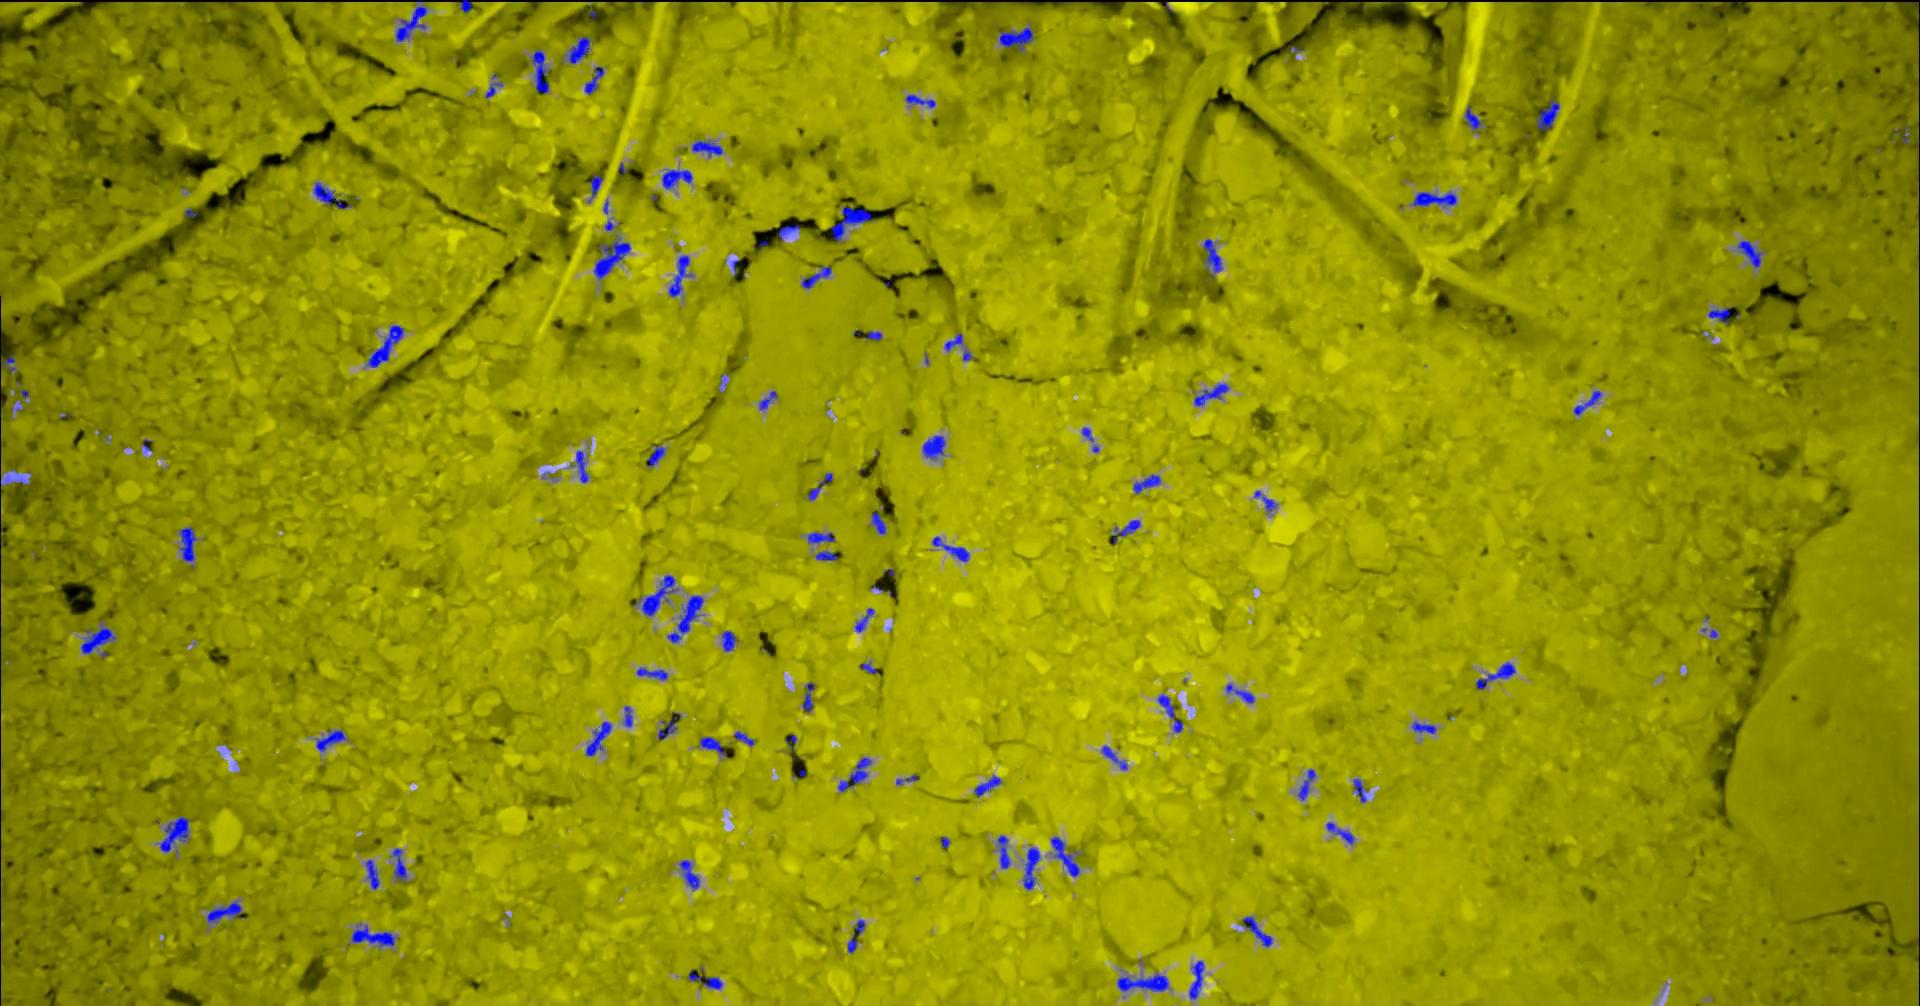ant: (668, 594, 705, 641), (637, 575, 679, 615), (368, 325, 405, 367), (596, 239, 632, 279), (833, 206, 874, 240), (397, 0, 429, 41), (1051, 836, 1081, 876), (839, 757, 872, 791), (1477, 662, 1517, 688), (161, 815, 190, 852), (83, 624, 117, 653), (315, 182, 352, 208), (933, 536, 971, 561), (670, 255, 693, 296), (1243, 916, 1274, 946), (1119, 973, 1170, 991), (587, 721, 613, 754), (353, 925, 396, 945), (1001, 25, 1035, 50), (1195, 384, 1230, 406), (1537, 97, 1561, 130), (208, 901, 243, 923), (1023, 847, 1041, 889), (1575, 390, 1603, 415), (809, 473, 834, 500), (803, 265, 833, 288), (690, 968, 724, 988), (1205, 238, 1223, 276), (568, 36, 592, 64), (182, 526, 198, 567), (1112, 520, 1142, 542), (535, 50, 550, 93), (663, 169, 695, 189), (1738, 240, 1763, 267), (659, 713, 682, 739), (571, 450, 590, 481), (1415, 191, 1458, 205), (317, 729, 345, 751), (1328, 822, 1356, 843), (681, 859, 701, 888), (1103, 746, 1129, 768), (1190, 960, 1205, 998), (975, 775, 1002, 796), (701, 735, 729, 756), (1299, 768, 1317, 800), (1227, 683, 1256, 702), (924, 434, 947, 459), (585, 66, 604, 94), (1134, 474, 1162, 493), (850, 920, 866, 951), (693, 140, 724, 156), (392, 847, 408, 880), (1255, 490, 1279, 511), (856, 607, 875, 631), (367, 859, 381, 889), (1083, 427, 1100, 452), (637, 667, 669, 680), (778, 224, 803, 240), (1709, 306, 1733, 323), (1159, 694, 1176, 718), (488, 72, 503, 98), (907, 94, 937, 107), (1467, 104, 1482, 130), (999, 835, 1011, 868), (804, 682, 817, 711), (649, 445, 665, 466), (872, 511, 888, 533), (946, 332, 964, 351), (590, 173, 604, 196), (1354, 779, 1368, 801), (761, 391, 778, 409), (735, 730, 756, 746), (723, 630, 737, 652), (1, 354, 18, 372), (808, 532, 836, 542), (1413, 721, 1437, 733), (861, 661, 880, 673), (897, 774, 919, 784), (817, 551, 842, 560), (867, 330, 883, 340), (625, 706, 632, 727), (461, 0, 472, 11)
